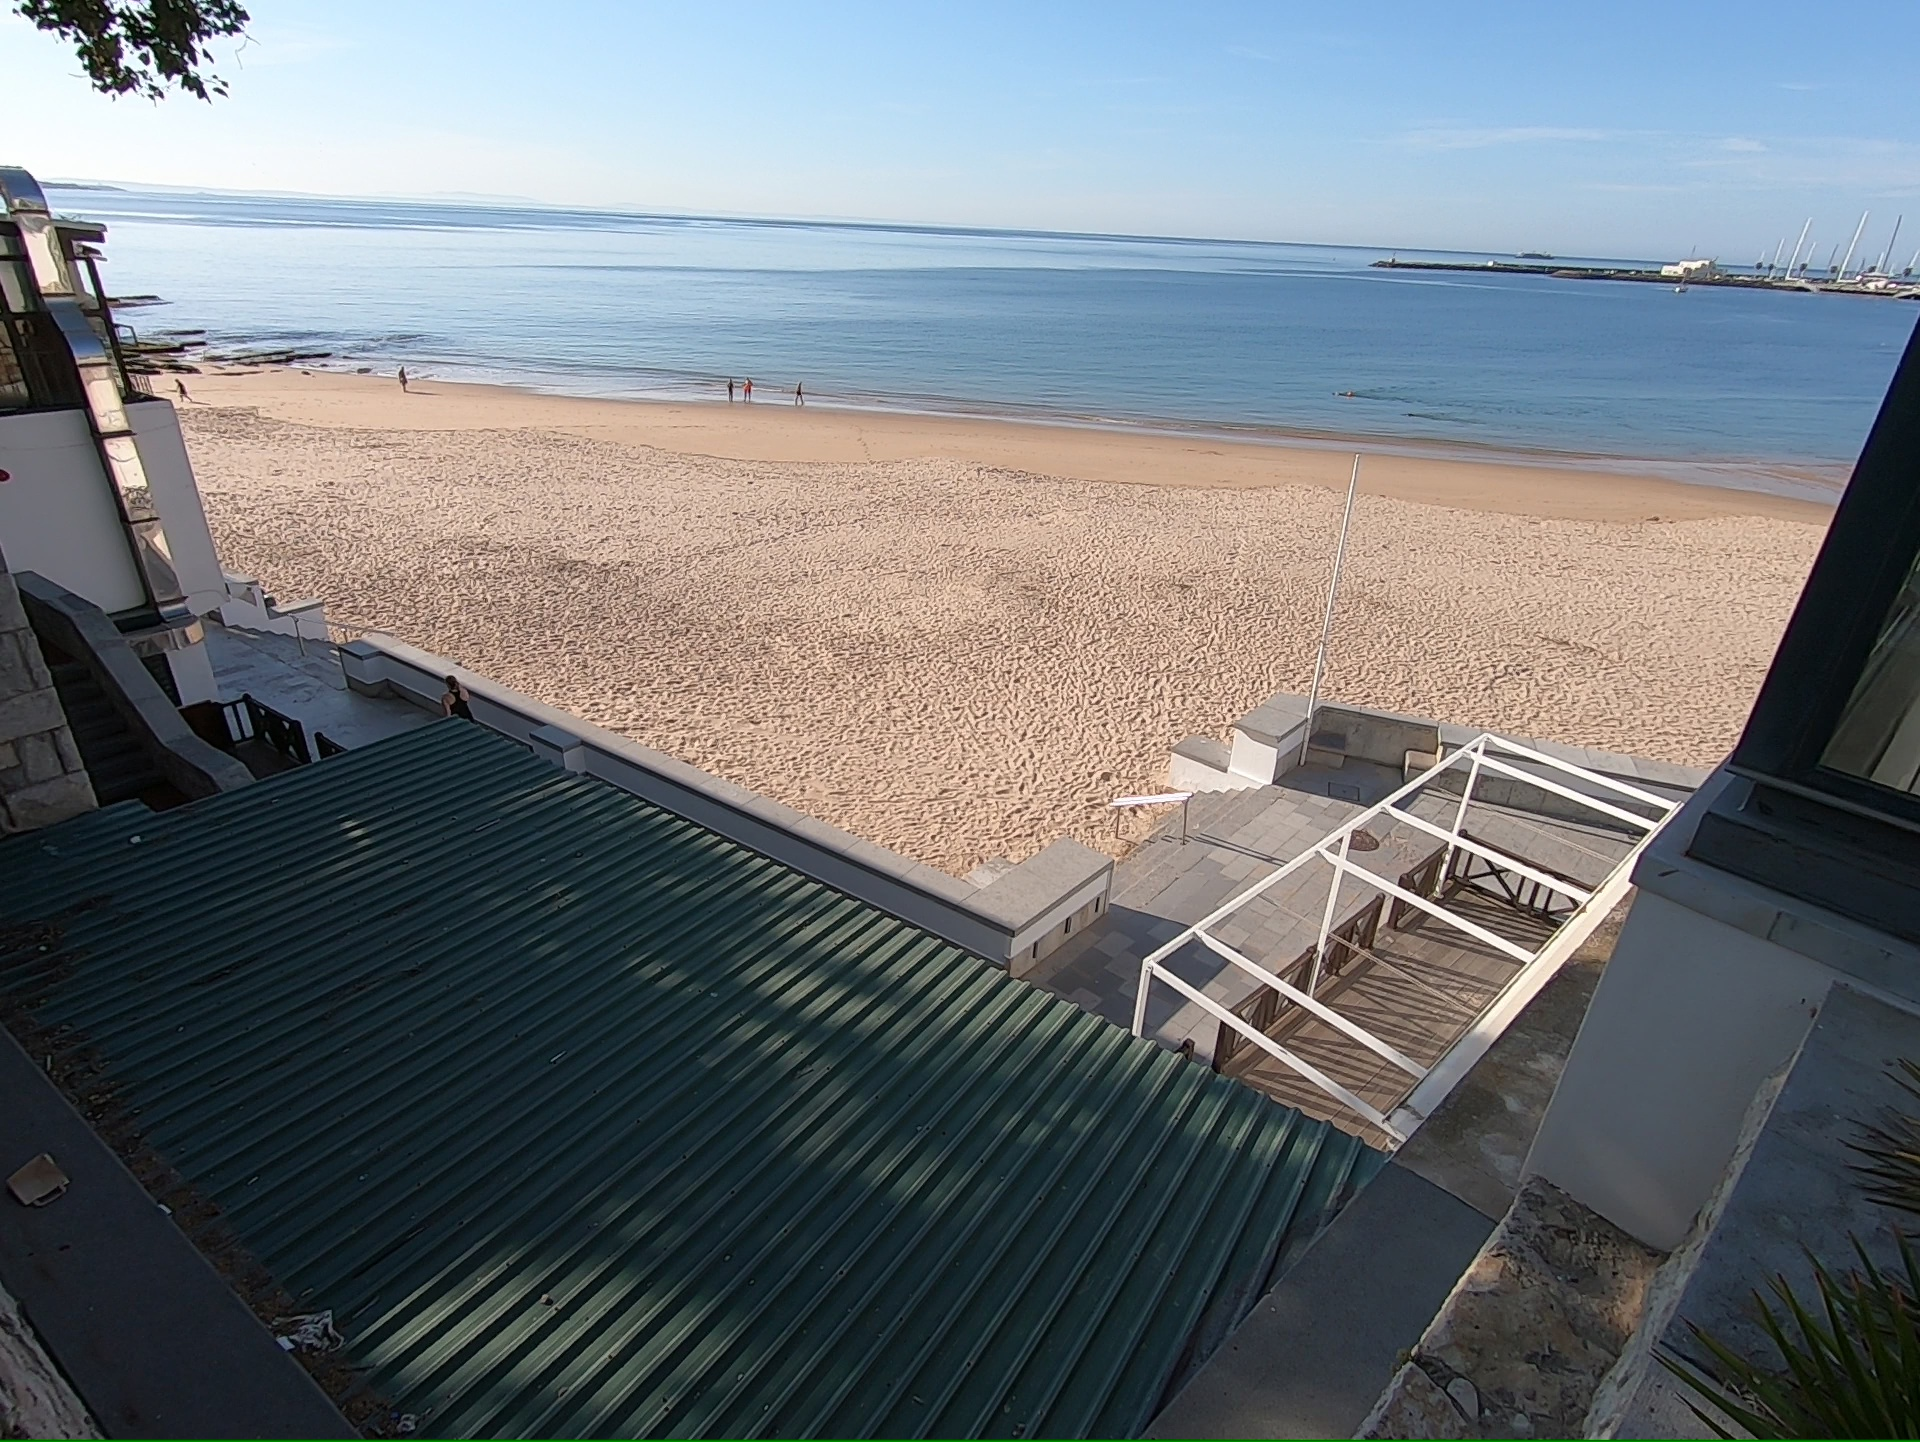person: (174, 378, 194, 403), (396, 363, 409, 392), (793, 382, 805, 407), (742, 378, 754, 403), (727, 378, 735, 402)
